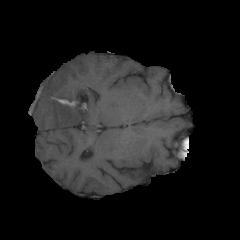glioma: (30, 74, 103, 131)
